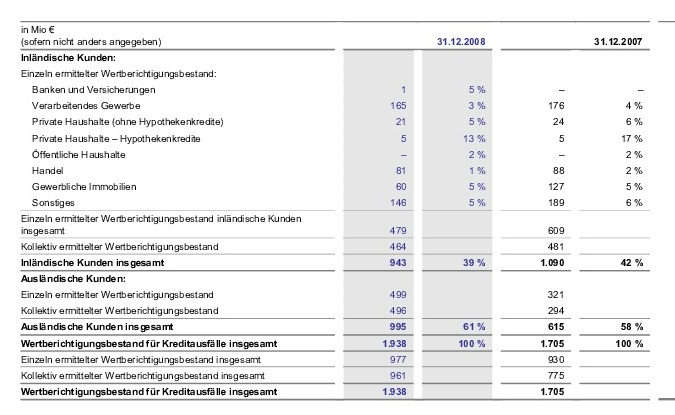table: (0, 0, 675, 415)
